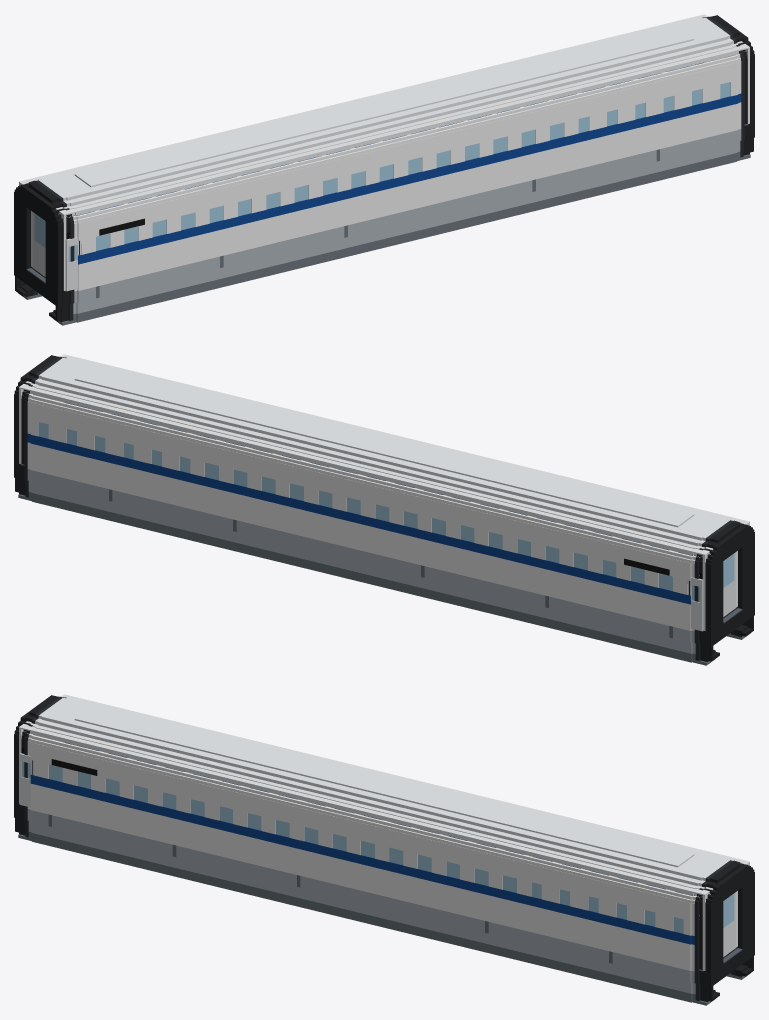
File: l0_car.obj
The picture shows the model from 3 angles, top to bottom: view 1: azimuth 30°, elevation 25°; view 2: azimuth 150°, elevation 25°; view 3: azimuth 330°, elevation 25°; orthographic projection.
Parts seen in each view (by area): view 1: SHELL, SHELL_roof, SHELL_ceiling, SHELL_diaphragm, CONNECTING_DOOR_1_CG_CR_TOGGLE_TL_0.98_Z, SHELL_end, EXTERNAL_DOOR_4_CG_DR1_TOGGLE_TL_-0.39_X; view 2: SHELL, SHELL_roof, SHELL_ceiling, SHELL_diaphragm, CONNECTING_DOOR_1_CG_CR_TOGGLE_TL_0.98_Z, SHELL_end, EXTERNAL_DOOR_7_CG_DL1_TOGGLE_TL_-0.39_X; view 3: SHELL, SHELL_roof, SHELL_ceiling, SHELL_diaphragm, CONNECTING_DOOR_2_CG_CF_TOGGLE_TL_0.98_Z, SHELL_end, EXTERNAL_DOOR_4_CG_DR1_TOGGLE_TL_-0.39_X.
Boxes of the visible parts, left/top/right/bottom form: SHELL: left=18, top=15, right=750, bottom=325; SHELL_roof: left=74, top=27, right=694, bottom=187; SHELL_ceiling: left=21, top=14, right=747, bottom=215; SHELL_diaphragm: left=14, top=15, right=754, bottom=321; CONNECTING_DOOR_1_CG_CR_TOGGLE_TL_0.98_Z: left=33, top=212, right=45, bottom=276; SHELL_end: left=19, top=14, right=749, bottom=290; EXTERNAL_DOOR_4_CG_DR1_TOGGLE_TL_-0.39_X: left=65, top=237, right=79, bottom=291; SHELL: left=18, top=355, right=750, bottom=665; SHELL_roof: left=74, top=367, right=694, bottom=527; SHELL_ceiling: left=20, top=354, right=747, bottom=554; SHELL_diaphragm: left=14, top=355, right=754, bottom=661; CONNECTING_DOOR_1_CG_CR_TOGGLE_TL_0.98_Z: left=723, top=552, right=735, bottom=616; SHELL_end: left=19, top=354, right=749, bottom=630; EXTERNAL_DOOR_7_CG_DL1_TOGGLE_TL_-0.39_X: left=689, top=577, right=703, bottom=631; SHELL: left=18, top=695, right=750, bottom=1005; SHELL_roof: left=74, top=707, right=694, bottom=867; SHELL_ceiling: left=21, top=694, right=747, bottom=895; SHELL_diaphragm: left=14, top=695, right=754, bottom=1001; CONNECTING_DOOR_2_CG_CF_TOGGLE_TL_0.98_Z: left=723, top=892, right=735, bottom=956; SHELL_end: left=19, top=694, right=749, bottom=970; EXTERNAL_DOOR_4_CG_DR1_TOGGLE_TL_-0.39_X: left=19, top=753, right=32, bottom=807.
Size of the model in its own units: 24.62 by 4.02 by 2.92.
1 material, 1 textured.
